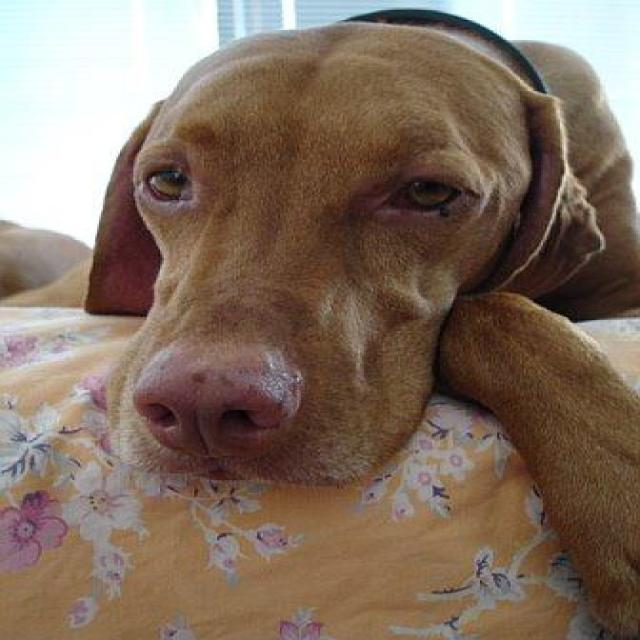vizsla: (78, 6, 636, 637)
